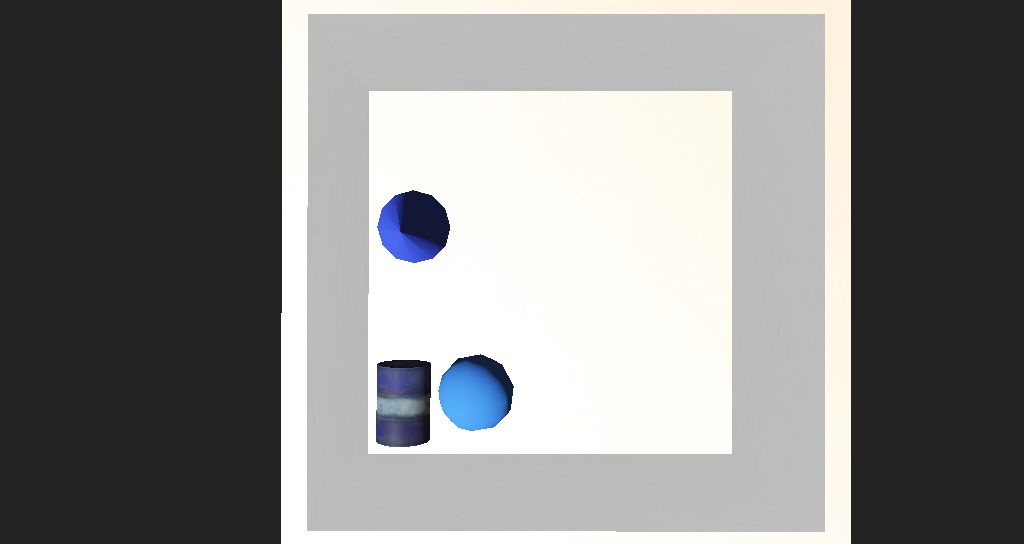cone: (357, 320, 411, 367)
cylinder: (350, 217, 418, 270)
sphere: (414, 317, 475, 360)
